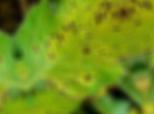Tomato Septoria leaf spot: (2, 0, 146, 114)
